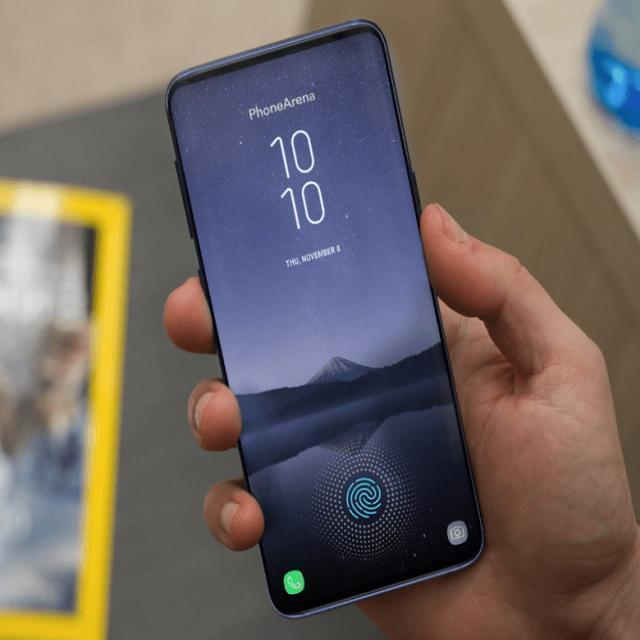mobile-phone: (166, 15, 486, 622)
